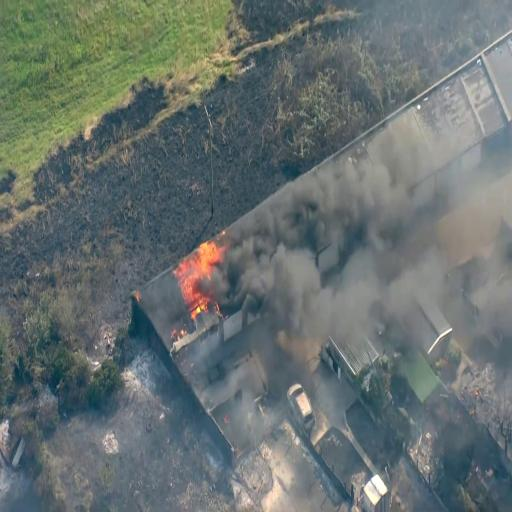fire: (171, 248, 223, 314)
smoke: (217, 185, 321, 336)
